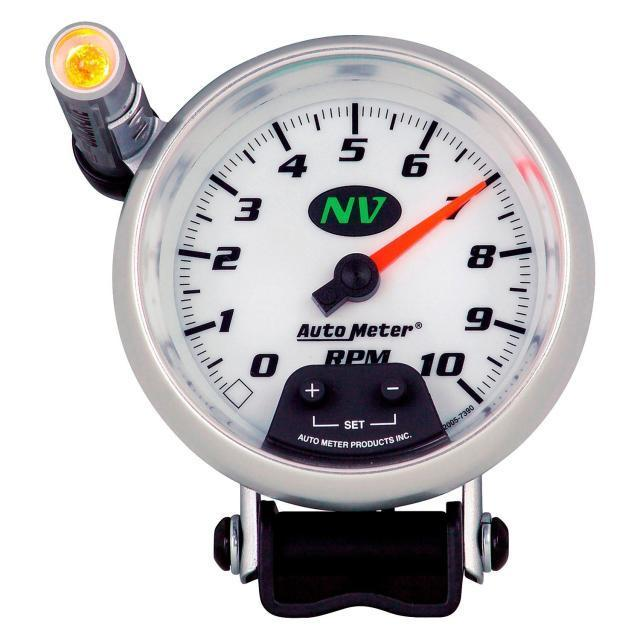Needle_Tip: (458, 157, 499, 219)
Needle_base: (326, 245, 390, 316)
max_value: (415, 337, 478, 401)
min_value: (239, 346, 292, 400)
